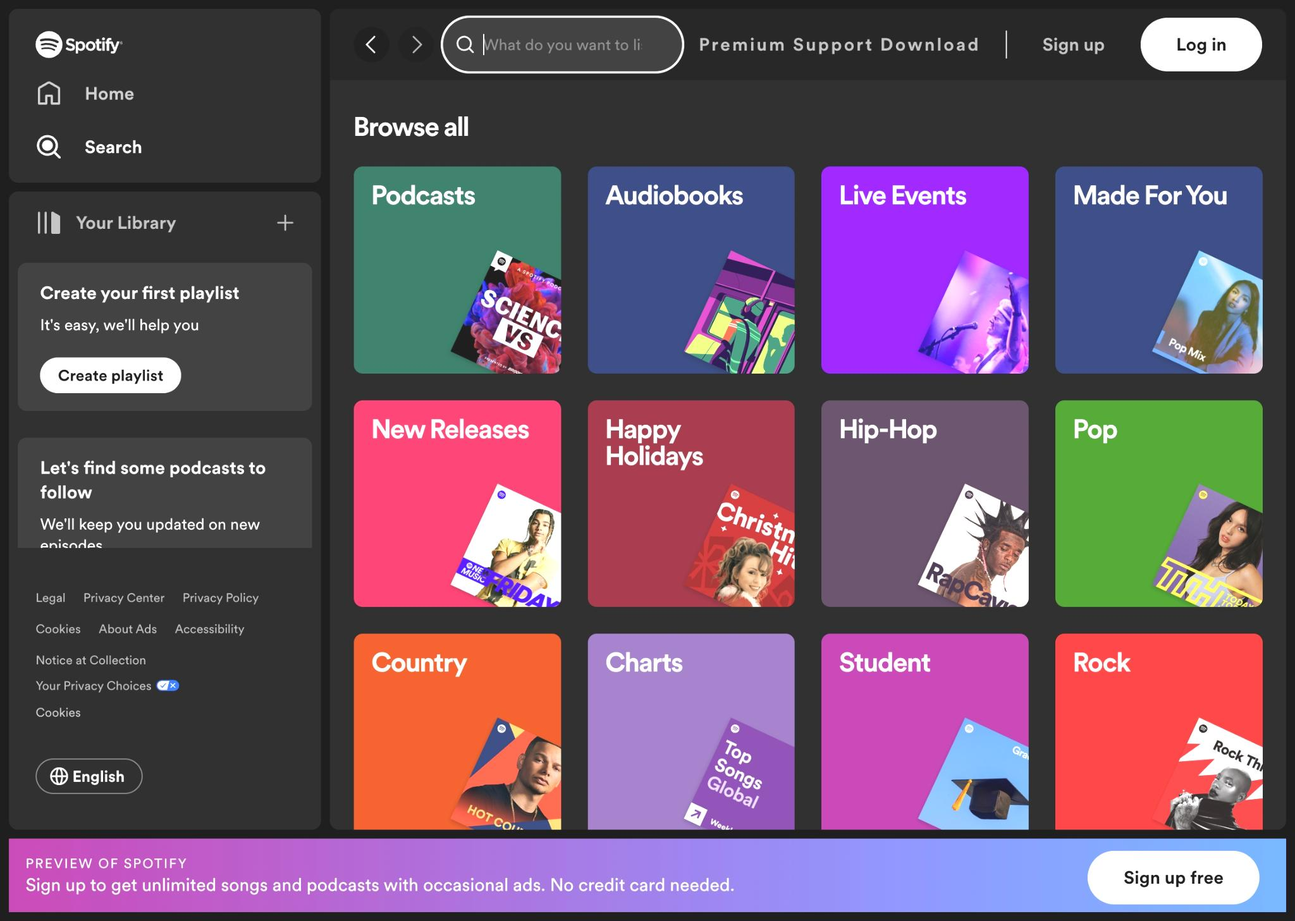webelement: (352, 115, 1260, 921), (8, 8, 320, 829), (329, 8, 1285, 79), (586, 399, 793, 606), (820, 399, 1027, 606), (1054, 399, 1261, 606), (586, 633, 793, 840), (820, 633, 1027, 840), (1054, 633, 1261, 840), (586, 167, 793, 373), (820, 167, 1027, 373), (1054, 167, 1261, 373), (353, 399, 559, 606), (353, 633, 559, 840), (353, 167, 559, 373), (449, 250, 597, 398), (684, 250, 832, 398), (449, 716, 597, 864), (684, 716, 832, 864), (918, 250, 1065, 398), (449, 484, 597, 631), (684, 484, 832, 631), (918, 716, 1065, 864), (918, 484, 1065, 631), (1150, 250, 1295, 398), (1150, 716, 1295, 864), (1150, 484, 1295, 631), (391, 881, 901, 921), (586, 399, 793, 487), (25, 872, 733, 896), (25, 854, 733, 872), (441, 17, 680, 70), (39, 455, 288, 503), (352, 399, 544, 461), (1054, 166, 1245, 228), (35, 70, 293, 114), (35, 124, 293, 168), (586, 867, 793, 921), (820, 867, 1027, 921), (1054, 867, 1261, 921), (353, 867, 559, 921), (587, 166, 760, 228), (39, 513, 288, 554), (820, 166, 983, 228), (1087, 850, 1258, 903), (352, 166, 491, 228), (820, 399, 954, 461), (353, 633, 483, 695), (821, 633, 947, 695), (1054, 867, 1193, 921), (820, 867, 956, 921), (586, 633, 699, 695), (26, 200, 184, 244), (1139, 17, 1260, 70), (39, 577, 199, 613), (1054, 633, 1146, 695), (1032, 17, 1139, 70), (881, 17, 977, 70), (40, 357, 181, 392), (352, 867, 443, 921), (1055, 399, 1134, 461), (39, 280, 238, 304), (699, 17, 783, 70), (793, 17, 872, 70), (39, 313, 238, 334), (34, 758, 141, 793), (316, 83, 460, 101), (34, 30, 121, 57), (34, 676, 150, 693), (35, 651, 145, 668), (35, 698, 97, 722), (84, 134, 141, 158), (266, 204, 302, 240), (83, 589, 164, 605), (575, 881, 611, 917), (682, 881, 718, 917), (531, 881, 566, 917), (629, 881, 664, 917), (727, 881, 762, 917), (352, 26, 388, 61), (397, 26, 433, 61), (182, 589, 258, 605), (174, 619, 244, 636), (84, 80, 132, 104), (97, 619, 155, 636), (1102, 894, 1137, 921), (1137, 894, 1172, 921), (35, 619, 79, 636), (35, 703, 79, 719), (150, 677, 178, 698), (34, 589, 64, 605)
